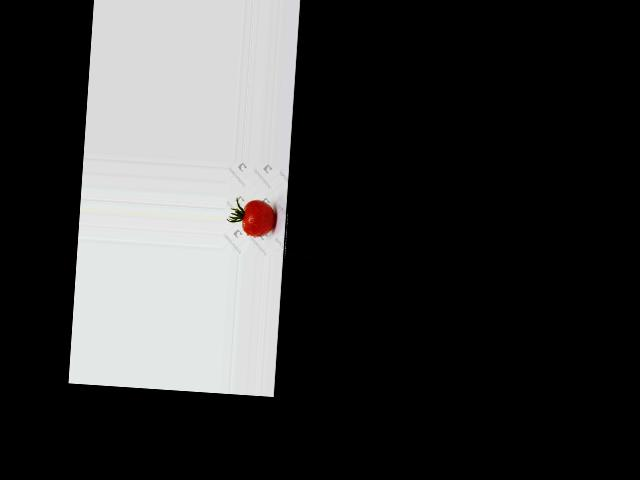tomato: (241, 198, 276, 236)
